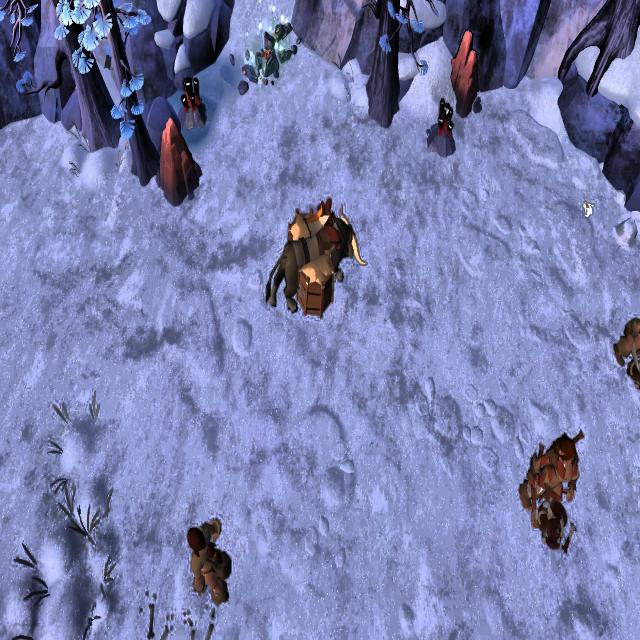enemy_factionKeeper: (518, 424, 578, 532), (180, 518, 234, 609), (611, 314, 640, 368)
ore_t5: (180, 72, 201, 114), (436, 94, 454, 140)
rock_t5: (158, 118, 202, 206), (449, 33, 481, 121)
